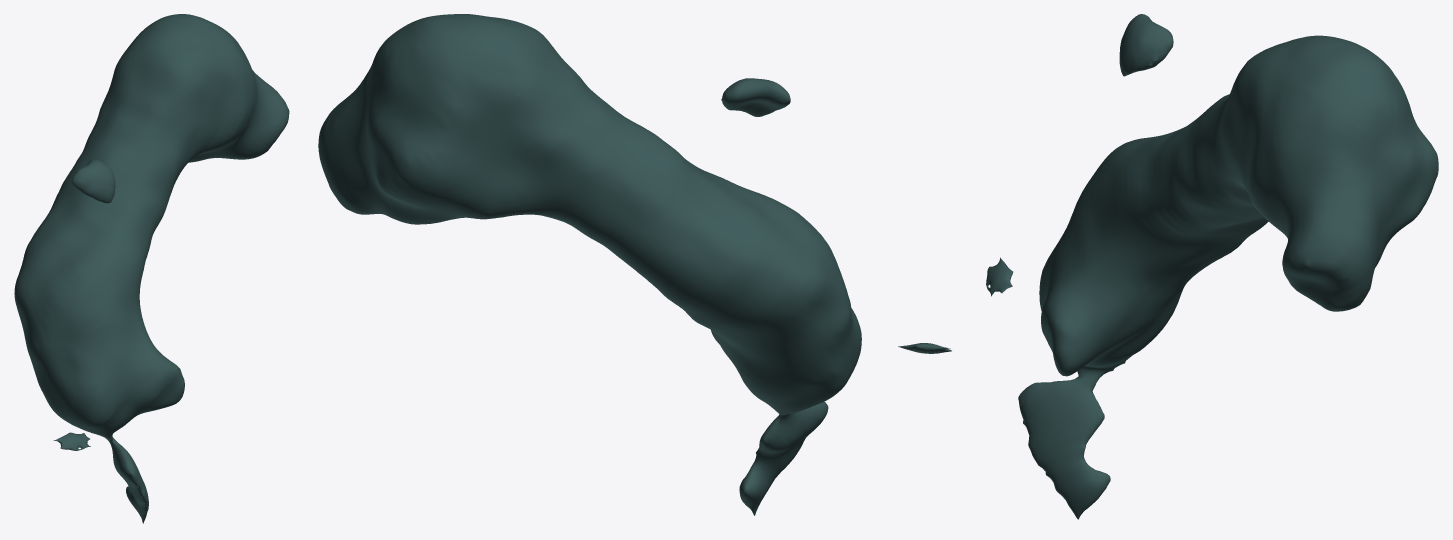
File: segmentations_stomach.obj
3 renders of one model, left to right at view 1: azimuth 30°, elevation 25°; view 2: azimuth 150°, elevation 25°; view 3: azimuth 270°, elevation 25°, orthographic. The views are drawn at different scales.
Parts seen in each view (by area): view 1: grp1; view 2: grp1; view 3: grp1.
Boxes of the visible parts, bbox=[...] form: grp1: bbox=[14, 14, 289, 523]; grp1: bbox=[318, 14, 951, 515]; grp1: bbox=[986, 14, 1438, 519].
Bounding box in the file's own units: 98.59 × 111 × 81.29.
